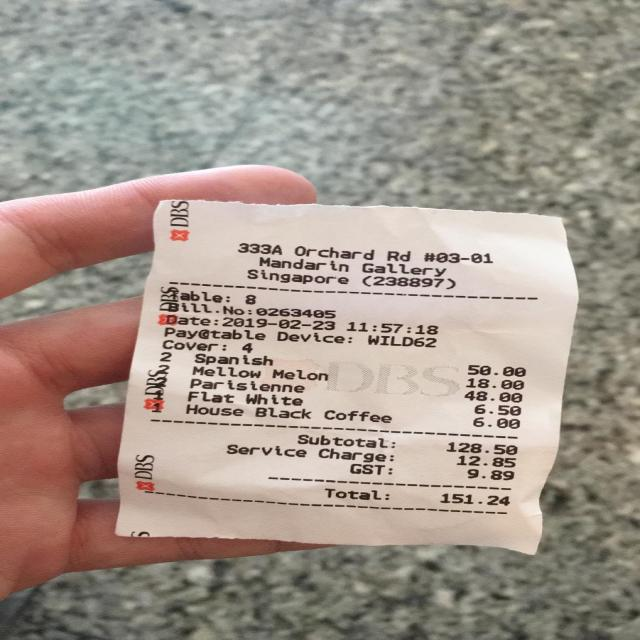bill_region: (146, 349, 538, 524)
